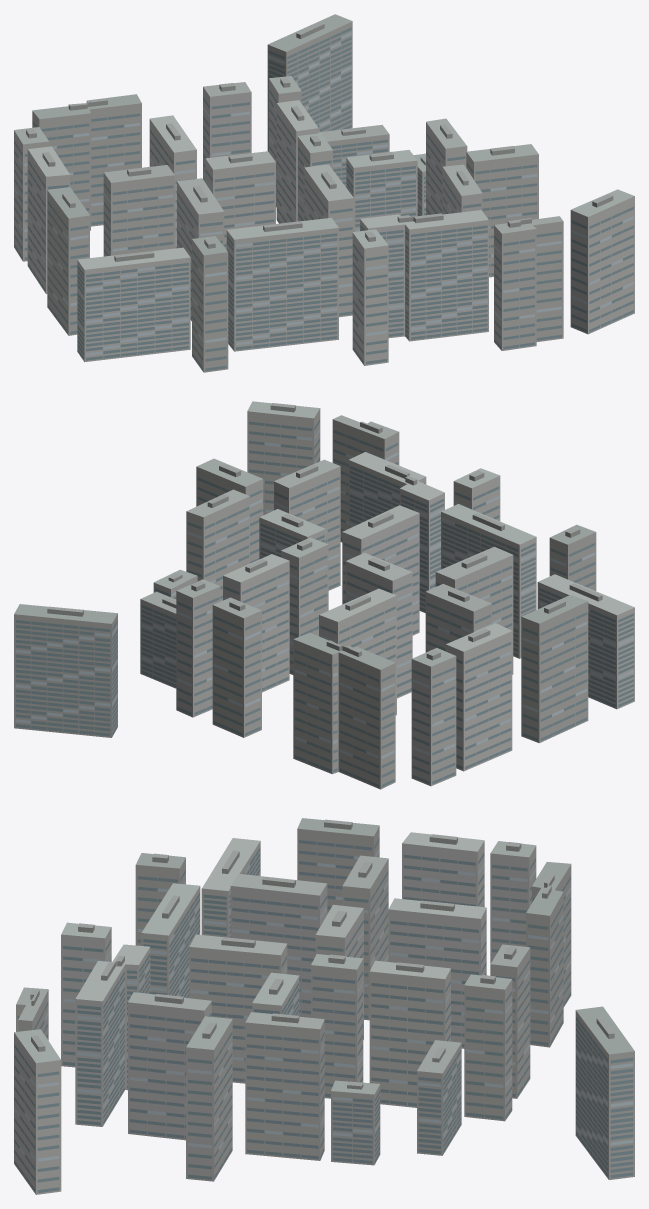
The model's file is apt-a15209002.glb.
3 renders of one model, top to bottom at view 1: azimuth 30°, elevation 25°; view 2: azimuth 150°, elevation 25°; view 3: azimuth 270°, elevation 25°, orthographic. The views are drawn at different scales.
Parts seen in each view (by area): view 1: apt-a15209002; view 2: apt-a15209002; view 3: apt-a15209002.
Part boxes in pixels (bbox=[...]): apt-a15209002: bbox=[14, 14, 634, 372]; apt-a15209002: bbox=[14, 401, 634, 789]; apt-a15209002: bbox=[14, 818, 634, 1194].
Bounding box in the file's own units: 271 × 68 × 280.
